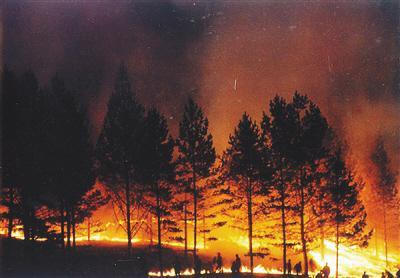fire: (3, 184, 375, 276)
